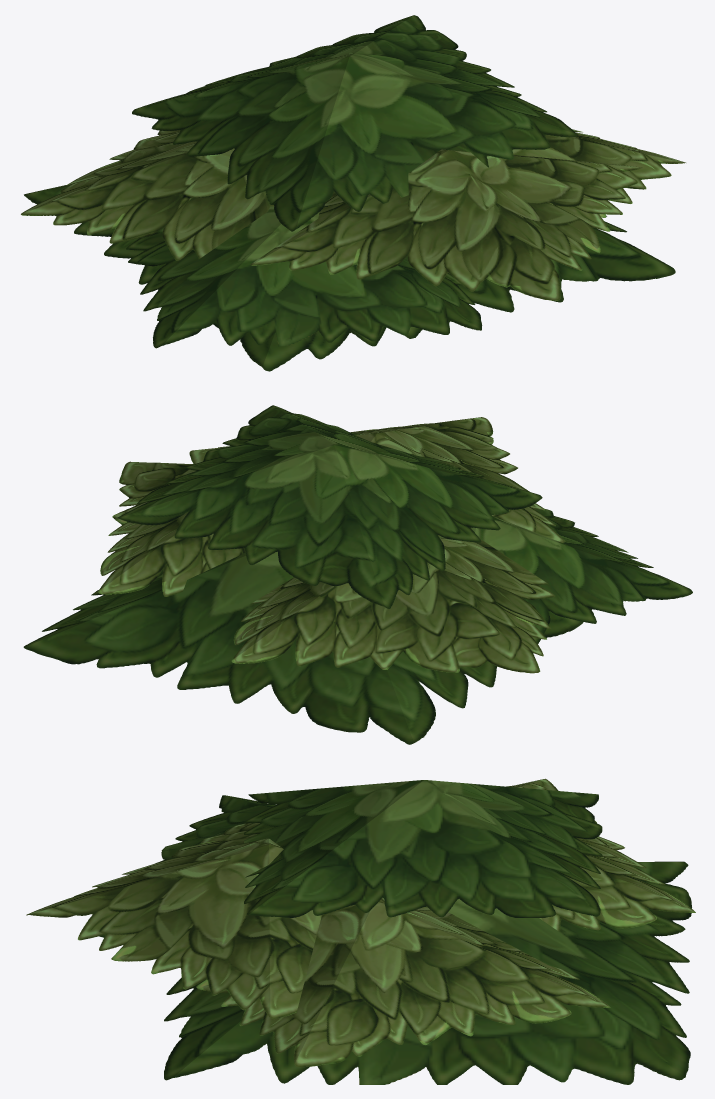
File: fanasty_mod_lar_shrub.fbx
The picture shows the model from 3 angles, top to bottom: view 1: azimuth 30°, elevation 25°; view 2: azimuth 150°, elevation 25°; view 3: azimuth 270°, elevation 25°; orthographic projection. The views are drawn at different scales.
Parts seen in each view (by area): view 1: lar_shrub; view 2: lar_shrub; view 3: lar_shrub.
Part boxes in pixels (x1,y1,x2,y2): lar_shrub: (21, 15, 685, 371); lar_shrub: (23, 405, 692, 744); lar_shrub: (26, 778, 695, 1084).
Size of the model in its own units: 2.73 by 0.8047 by 2.6.
